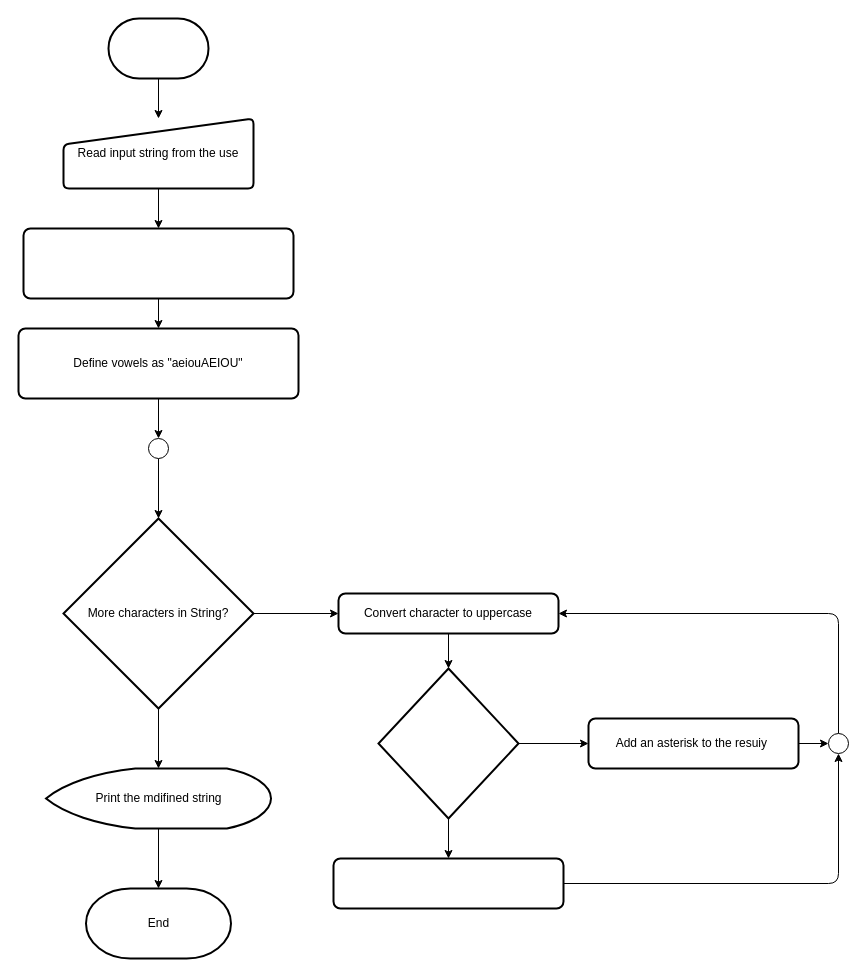
Some shapes in this 866 by 976 pixel diagram are drawn without their labels. Each missing label, with the centre of its shape:
"Initalize an empty string for the result" goes at point 158,263.
"Is character a vowel" goes at point 448,743.
"start" goes at point 158,48.
